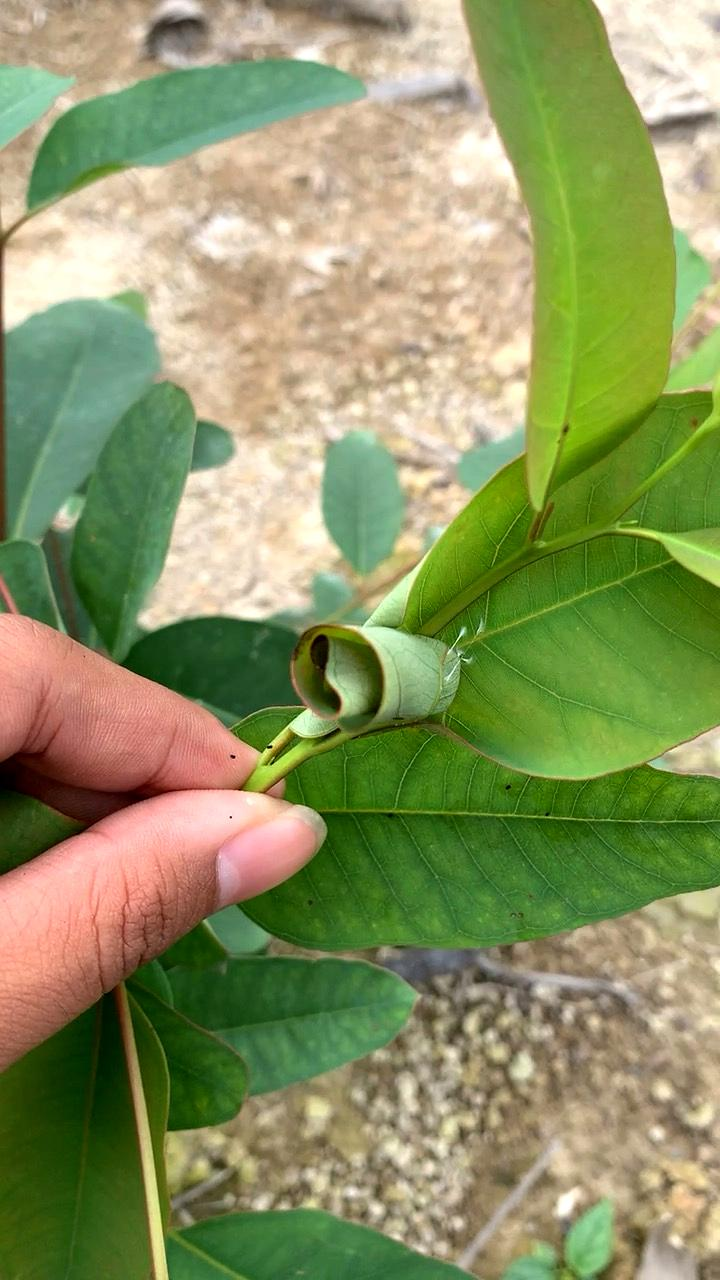Leaf Roller - Leaf: (260, 575, 491, 756)
